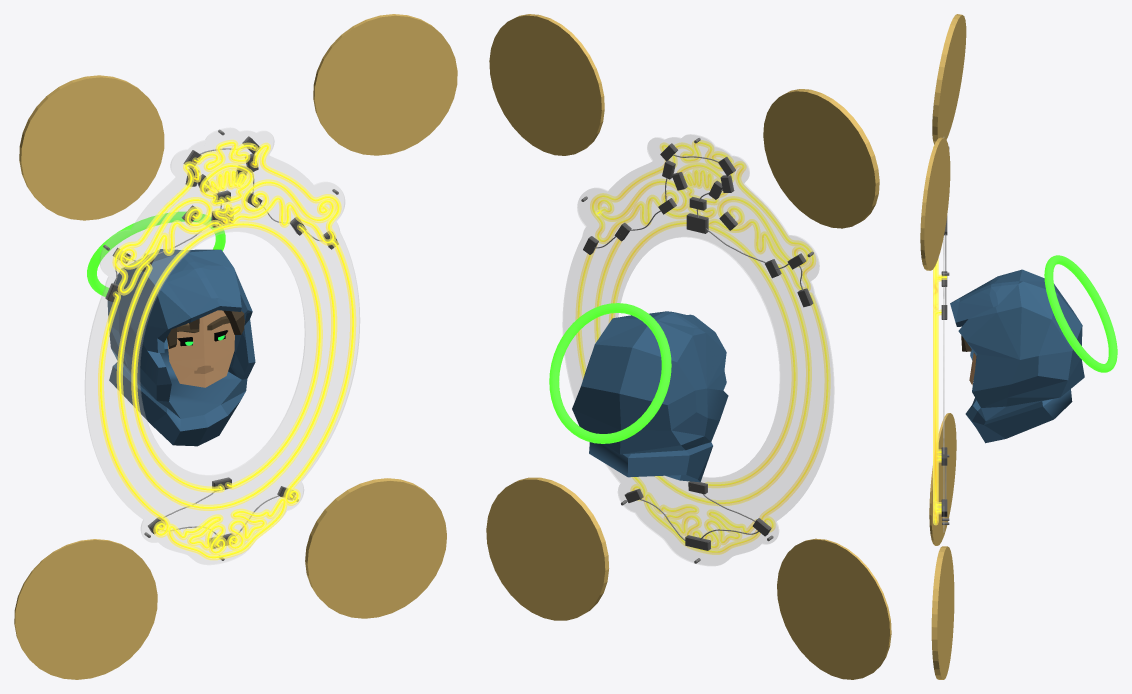
File: mobile_angel_coins2.glb
3 renders of one model, left to right at view 1: azimuth 30°, elevation 25°; view 2: azimuth 150°, elevation 25°; view 3: azimuth 270°, elevation 25°, orthographic. The views are drawn at different scales.
Parts seen in each view (by area): view 1: Acrylic, Glass, SM_Chr_Attach_Hood_01, Coin1, Coin3, Coin4, Coin2, Emissive, Face, Cubes, Halo; view 2: Acrylic, SM_Chr_Attach_Hood_01, Glass, Coin2, Coin3, Coin4, Coin1, Emissive, Halo, Cubes, Cable; view 3: SM_Chr_Attach_Hood_01, Coin3, Coin1, Coin2, Halo, Coin4, Glass, Emissive, Acrylic, Cubes.
Boxes of the visible parts, x1,y1,x2,y2 form: Acrylic: (85,127,359,564); Glass: (98,139,356,560); SM_Chr_Attach_Hood_01: (107,249,255,446); Coin1: (19,75,164,220); Coin3: (313,14,457,155); Coin4: (14,539,157,679); Coin2: (305,478,446,618); Emissive: (100,142,353,558); Face: (167,310,234,387); Cubes: (105,136,338,548); Halo: (87,211,225,296); Acrylic: (562,134,834,565); SM_Chr_Attach_Hood_01: (572,311,728,482); Glass: (575,140,830,554); Coin2: (486,477,609,620); Coin3: (489,14,604,155); Coin4: (777,538,891,679); Coin1: (763,89,879,228); Emissive: (578,142,828,552); Halo: (549,303,671,443); Cubes: (583,143,813,550); Cable: (594,154,802,540); SM_Chr_Attach_Hood_01: (950,269,1084,443); Coin3: (920,137,950,270); Coin1: (932,14,966,144); Coin2: (931,546,954,679); Halo: (1044,255,1117,372); Coin4: (929,413,956,545); Glass: (933,146,946,525); Emissive: (935,264,946,522); Acrylic: (943,137,944,532); Cubes: (941,216,947,516).
Bounding box in the file's own units: 1.57 × 2.13 × 0.7151.
15 materials, 1 textured.
